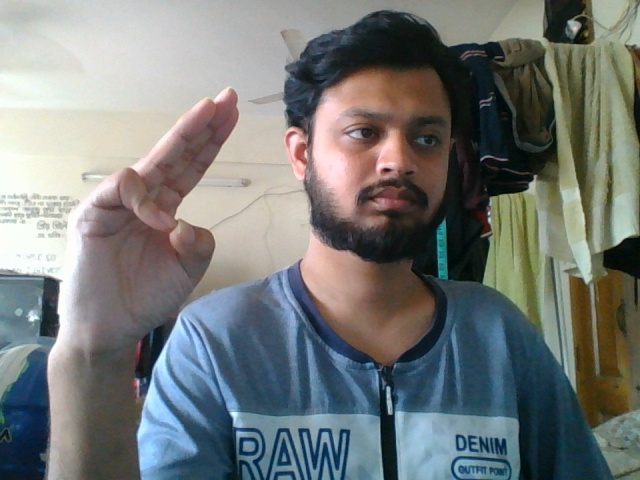ma: (59, 82, 246, 392)
